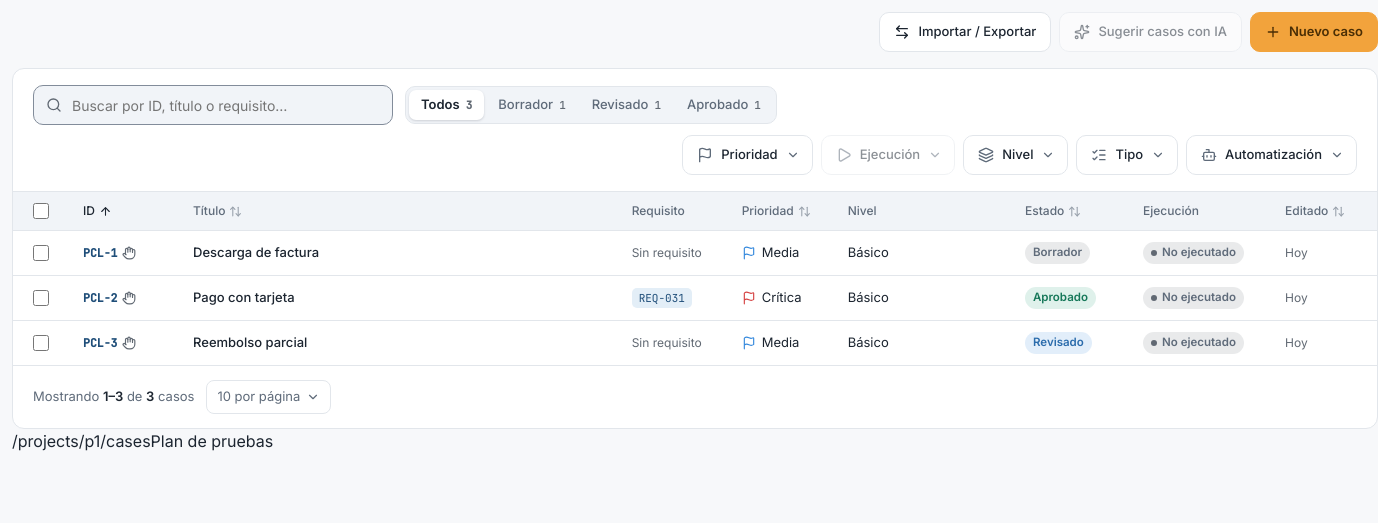
Test: Casos · review fixes (RED-V3) › a filter drops from the selection the cases it hides
Expected: the table is shown, [13, 191, 1377, 366]
Step 1. Click the checkbox named "Seleccionar PCL-1 Descarga de factura" → (41, 253), box [33, 245, 49, 261]
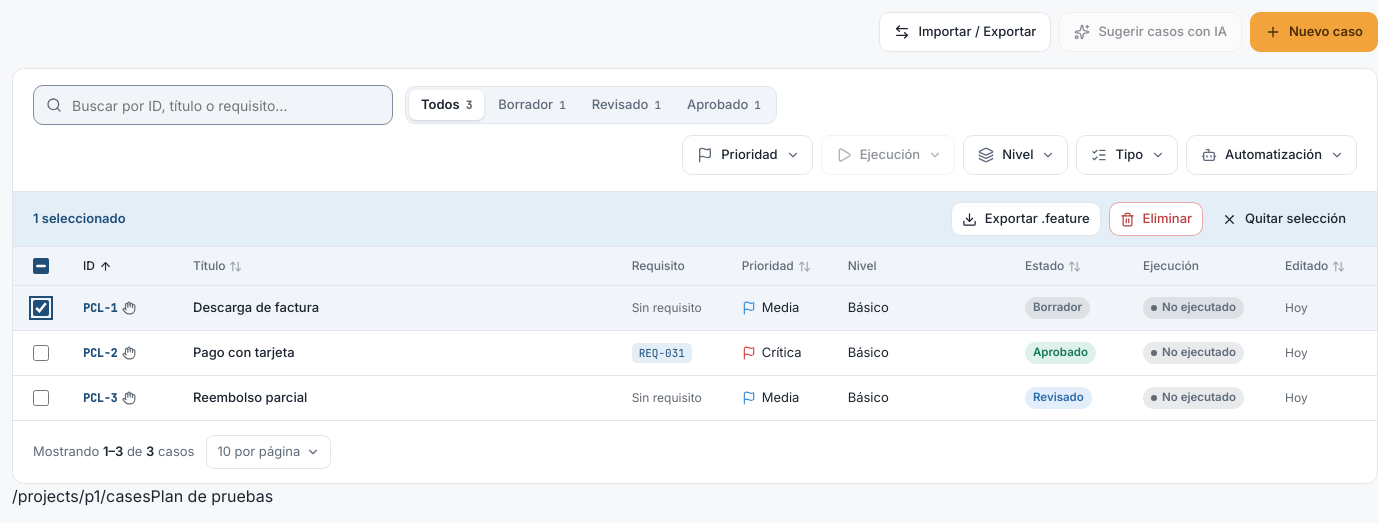
Step 2. Click the checkbox named "Seleccionar PCL-2 Pago con tarjeta" → (41, 353), box [33, 345, 49, 361]
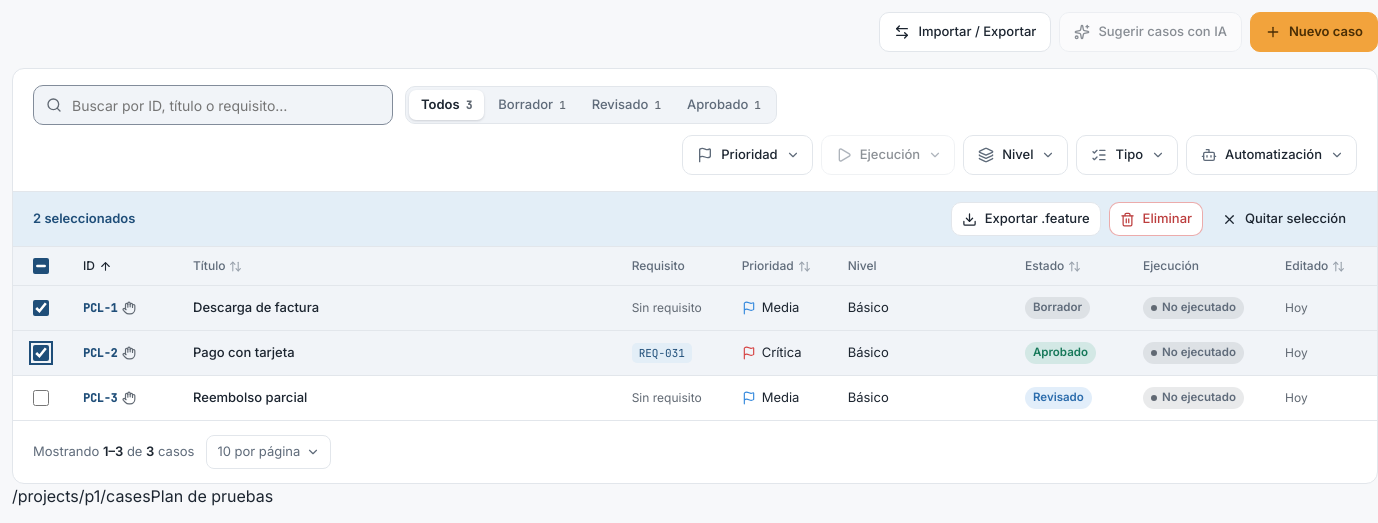
Result: the text "2 seleccionados" is shown at [33, 209, 135, 229]
Step 3. Click the button "Borrador 1" → (532, 105), box [486, 90, 578, 120]
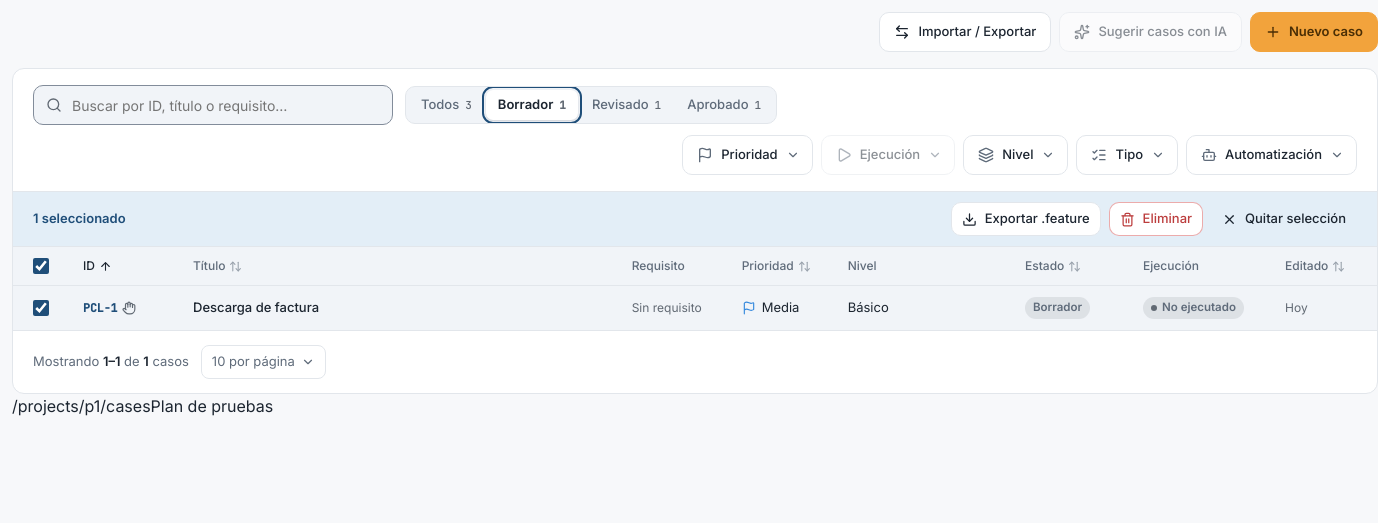
Result: the text "1 seleccionado" is shown at [33, 209, 126, 229]
